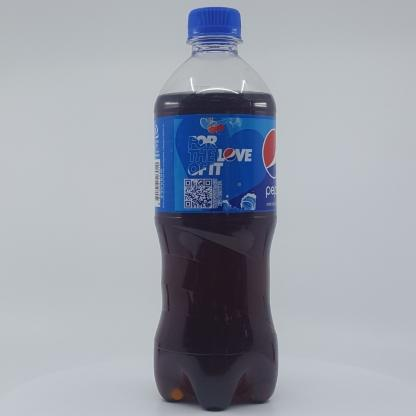------600ML: (153, 7, 278, 412)
